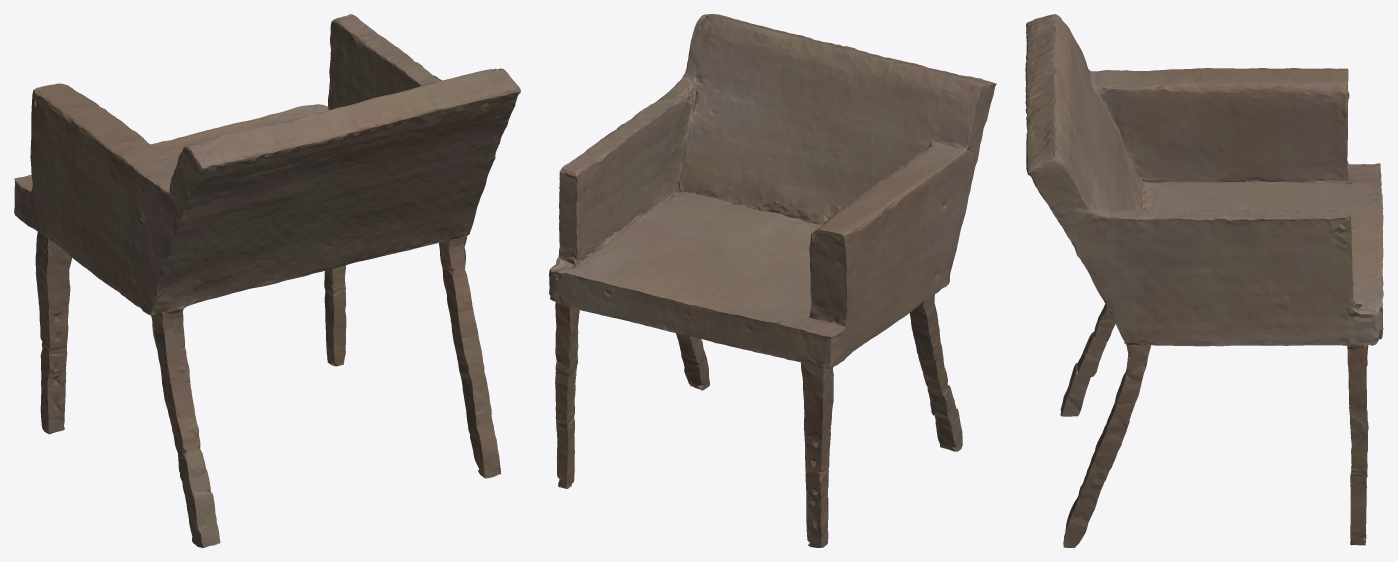
The picture shows the model from 3 angles, left to right: view 1: azimuth 30°, elevation 25°; view 2: azimuth 150°, elevation 25°; view 3: azimuth 270°, elevation 25°; orthographic projection. The views are drawn at different scales.
Parts seen in each view (by area): view 1: defaultobject; view 2: defaultobject; view 3: defaultobject.
Part boxes in pixels (<box>): defaultobject: <box>14,14,520,547</box>; defaultobject: <box>549,14,996,547</box>; defaultobject: <box>1025,14,1383,547</box>.
Bounding box in the file's own units: 0.5979 × 0.7285 × 0.6057.
